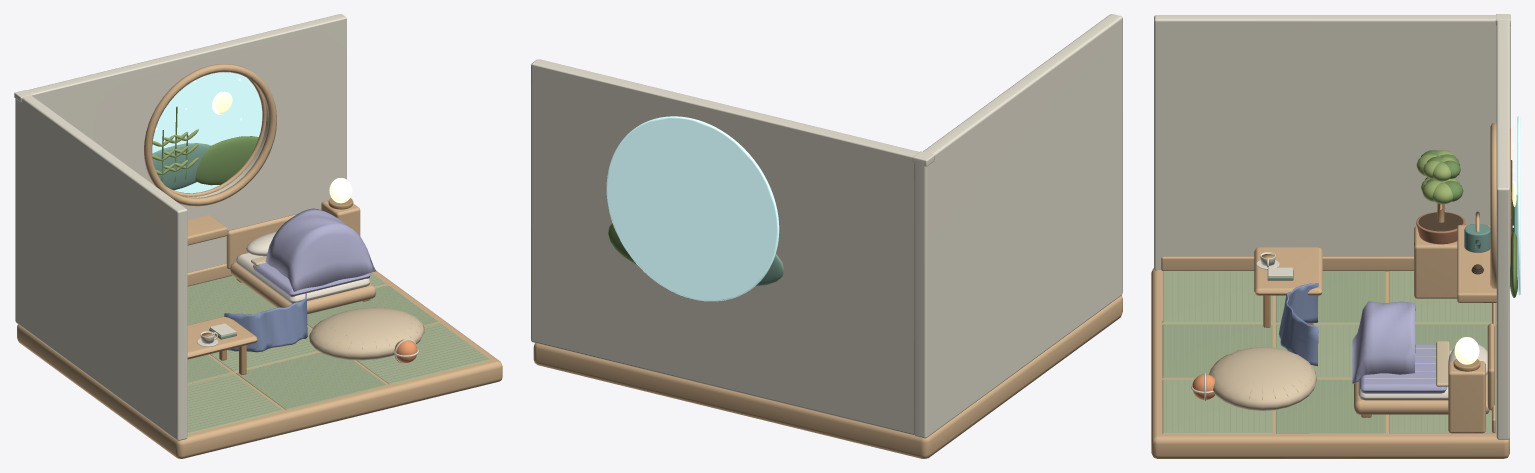
File: room.glb
The picture shows the model from 3 angles, left to right: view 1: azimuth 30°, elevation 25°; view 2: azimuth 150°, elevation 25°; view 3: azimuth 270°, elevation 25°; orthographic projection. The views are drawn at different scales.
Parts seen in each view (by area): view 1: Architecture, Tatami, Garden, Bed_cover, Bed, Cushion.001, Blanket.001, Tea_table, Lamp, Shelf; view 2: Architecture, Garden; view 3: Architecture, Tatami, Bed, Cushion.001, Bed_cover, Bonsai, Lamp, Tea_table, Blanket.001, Shelf, Bonsai_leaves, Garden (+2 smaller).
Boxes of the visible parts, x1=… form: Architecture: x1=14, y1=14, x2=502, y2=458; Tatami: x1=187, y1=272, x2=489, y2=433; Garden: x1=152, y1=72, x2=262, y2=193; Bed_cover: x1=265, y1=208, x2=375, y2=291; Bed: x1=226, y1=214, x2=375, y2=314; Cushion.001: x1=309, y1=307, x2=424, y2=360; Blanket.001: x1=224, y1=293, x2=307, y2=352; Tea_table: x1=187, y1=316, x2=257, y2=374; Lamp: x1=321, y1=178, x2=360, y2=235; Shelf: x1=187, y1=215, x2=227, y2=245; Architecture: x1=531, y1=14, x2=1122, y2=458; Garden: x1=606, y1=116, x2=784, y2=301; Architecture: x1=1151, y1=14, x2=1510, y2=458; Tatami: x1=1162, y1=271, x2=1496, y2=433; Bed: x1=1354, y1=323, x2=1494, y2=417; Cushion.001: x1=1209, y1=347, x2=1316, y2=410; Bed_cover: x1=1352, y1=301, x2=1415, y2=383; Bonsai: x1=1414, y1=203, x2=1465, y2=298; Lamp: x1=1448, y1=264, x2=1485, y2=433; Tea_table: x1=1254, y1=247, x2=1322, y2=327; Blanket.001: x1=1278, y1=283, x2=1318, y2=366; Shelf: x1=1457, y1=225, x2=1496, y2=302; Bonsai_leaves: x1=1416, y1=150, x2=1463, y2=203; Garden: x1=1510, y1=116, x2=1520, y2=297.
Size of the model in its own units: 4.62 by 3.36 by 4.12.
